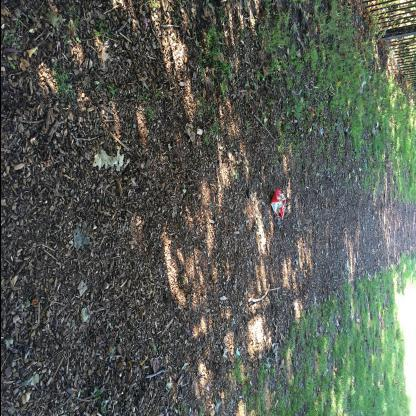plastik: (271, 190, 287, 222)
